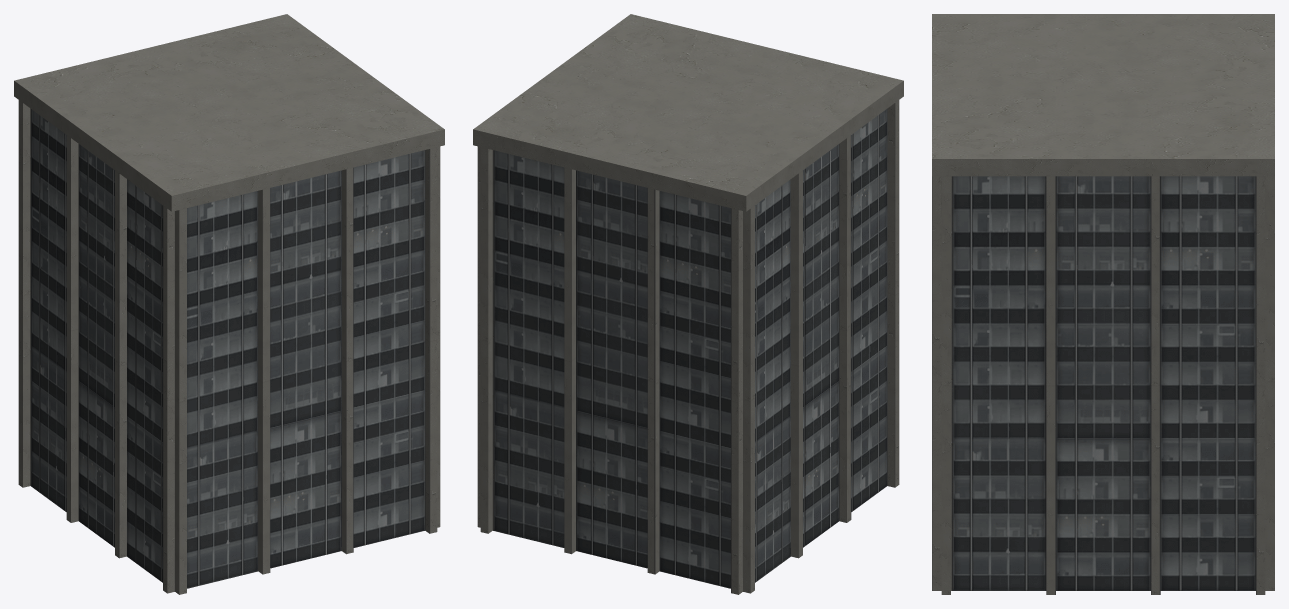
Rendered from office_building_4_bgr.fbx.
3 views of the same model, side by side, from view 1: azimuth 30°, elevation 25°; view 2: azimuth 150°, elevation 25°; view 3: azimuth 270°, elevation 25° (orthographic). The views are drawn at different scales.
Parts seen in each view (by area): view 1: office_building_4_bgr; view 2: office_building_4_bgr; view 3: office_building_4_bgr.
Boxes of the visible parts, left/top/right/bottom form: office_building_4_bgr: left=14, top=14, right=444, bottom=594; office_building_4_bgr: left=473, top=14, right=903, bottom=594; office_building_4_bgr: left=932, top=14, right=1274, bottom=594.
Bounding box in the file's own units: 3600 × 5050 × 3600.
